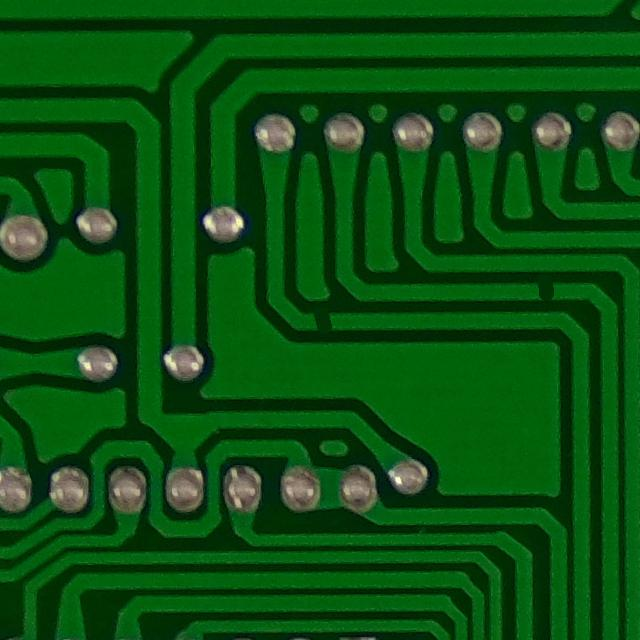open_circuit: (301, 303, 340, 338)
